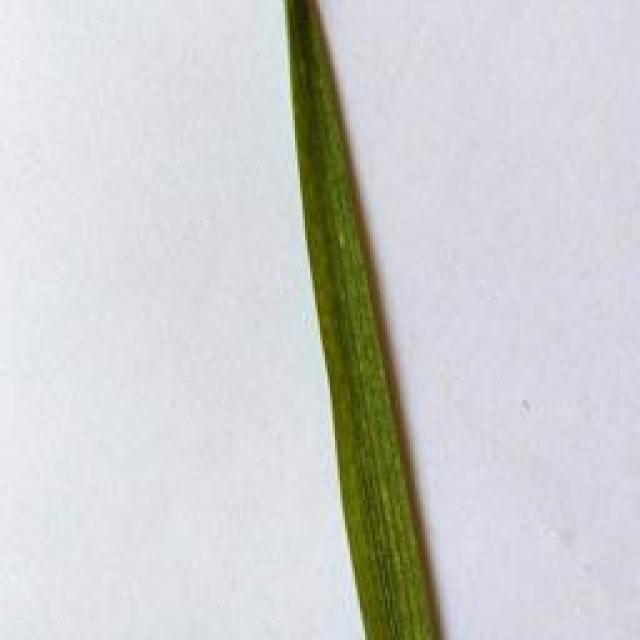Healthy-Plant: (272, 0, 448, 640)
